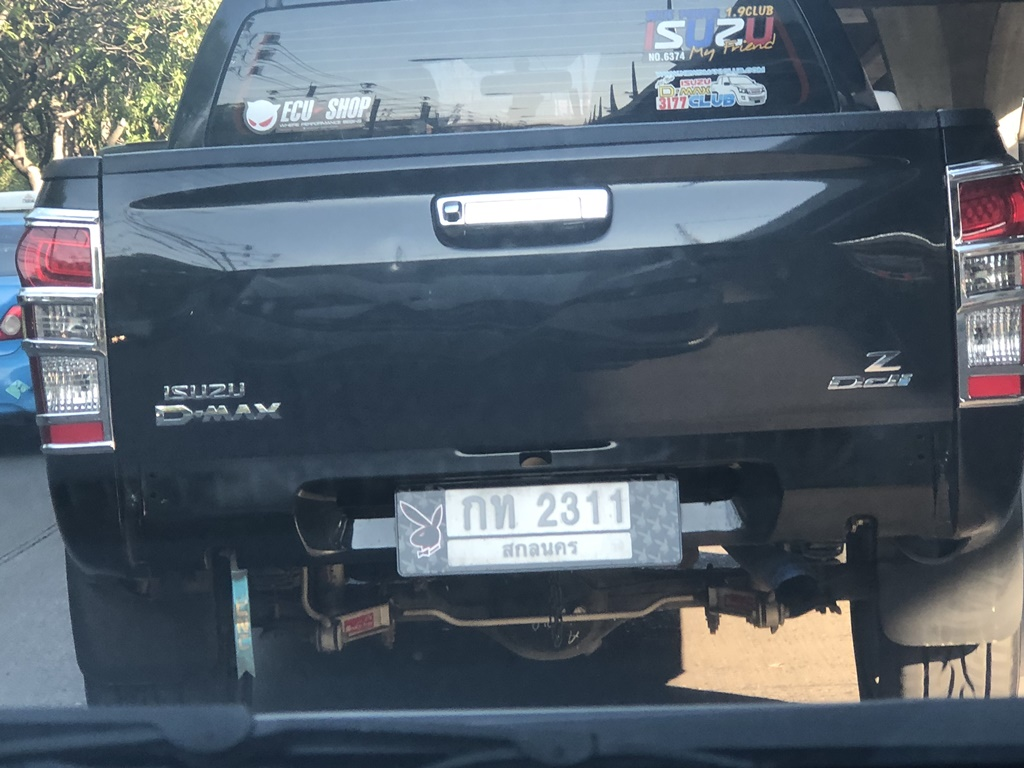plate: (432, 471, 643, 575)
